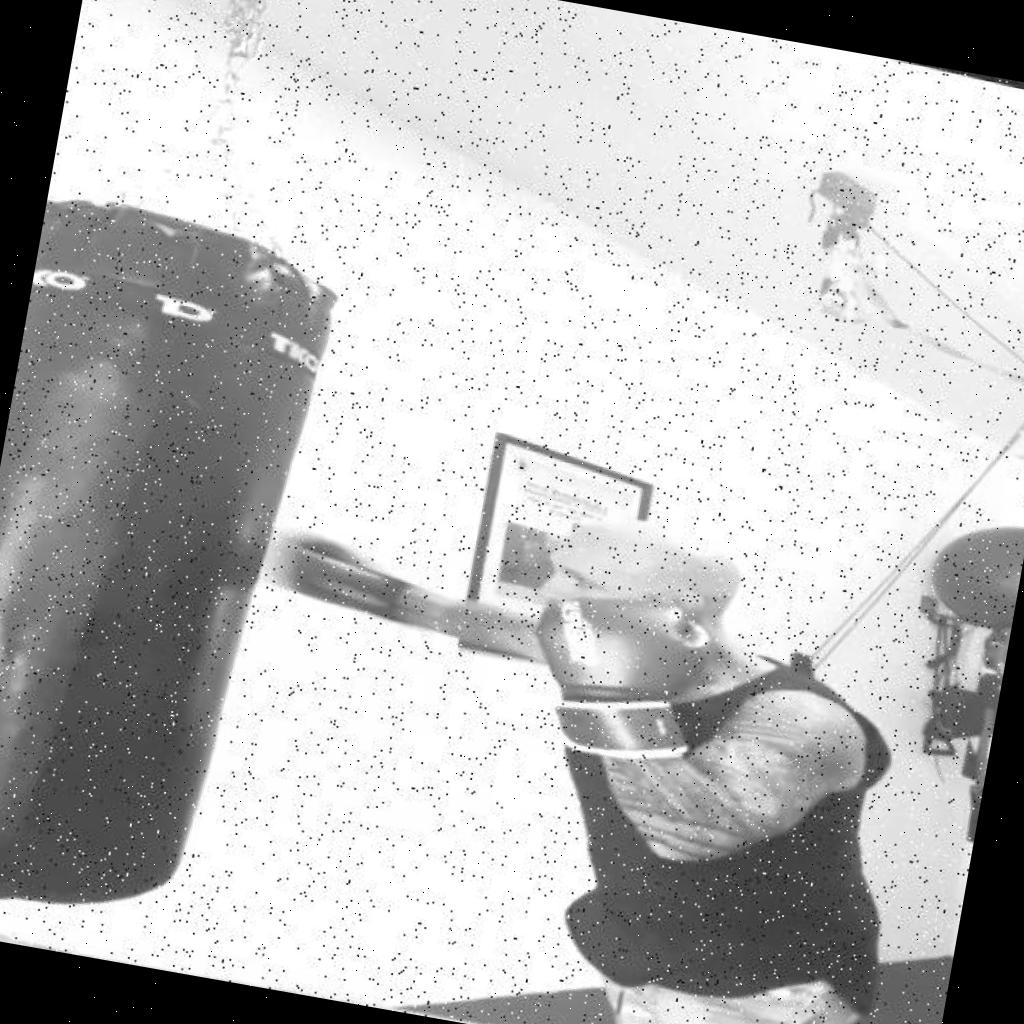bag: (0, 178, 335, 937)
hook: (258, 506, 587, 680)
